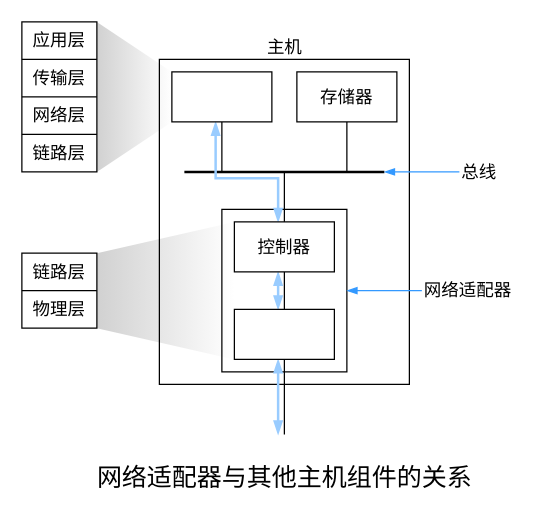
The diagram is 544 pixels wide and 516 high, and some of its shapes have lost their labels. Each missing label, with the centre of its shape:
CPU: the point at 221,96
物理传输: the point at 283,333
